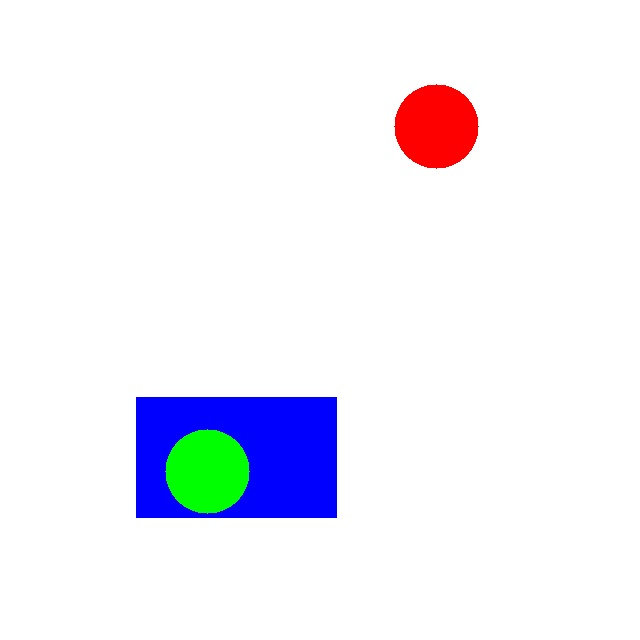cartao: (136, 397, 336, 517)
rosca_externa: (165, 429, 249, 513)
rosca_interna: (394, 84, 478, 168)
